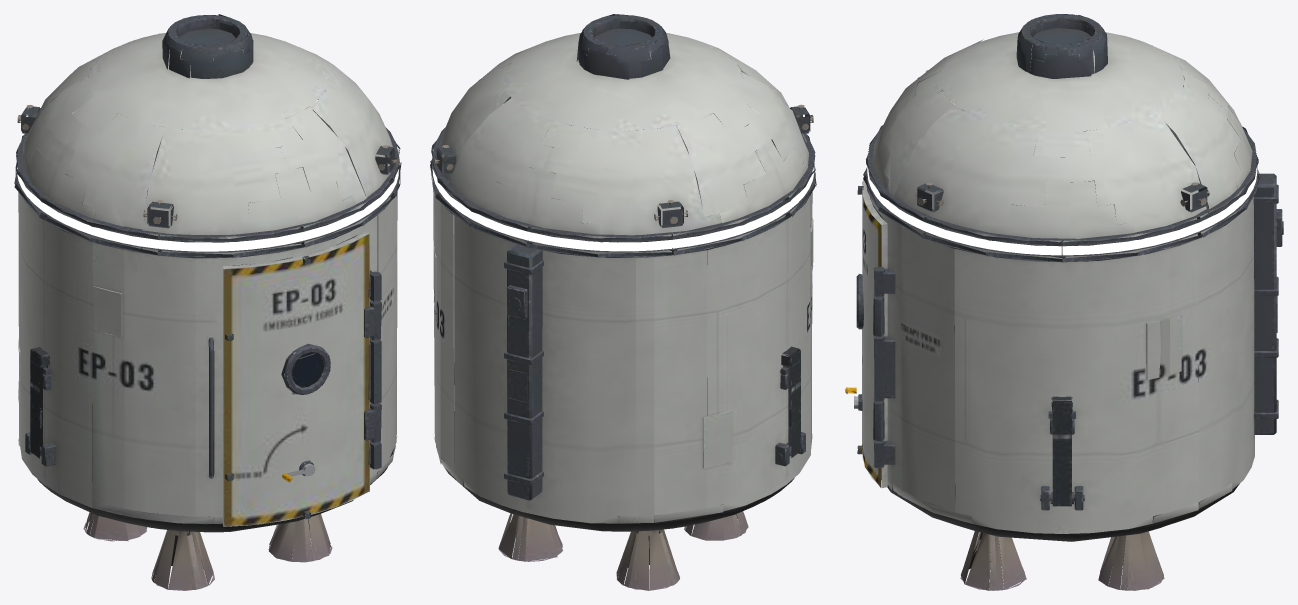
The model's file is pod.glb.
3 renders of one model, left to right at view 1: azimuth 30°, elevation 25°; view 2: azimuth 150°, elevation 25°; view 3: azimuth 270°, elevation 25°, orthographic. The views are drawn at different scales.
Visible parts, largest first — view 1: GEO_S2_Hull_001, GEO_S2_PIV_Hatch_001, GEO_S2_Thruster_003, GEO_S2_Thruster_004, GEO_S2_RingLip_006, GEO_S2_RingLip_005, GEO_S2_RingLip_007, GEO_S2_PIV_Clamp_L_001, GEO_S2_LaunchRingSeg_006, GEO_S2_Thruster_002, GEO_S2_LaunchRingSeg_005, GEO_S2_LaunchRingSeg_007 (+2 smaller); view 2: GEO_S2_Hull_001, GEO_S2_Thruster_002, GEO_S2_Thruster_001, GEO_S2_RingLip_003, GEO_S2_RingLip_004, GEO_S2_RingLip_002, GEO_S2_PIV_Clamp_L_001, GEO_S2_LaunchRingSeg_003, GEO_S2_Thruster_003, GEO_S2_LaunchRingSeg_004, GEO_S2_LaunchRingSeg_002, GEO_S2_RingLip_005 (+2 smaller); view 3: GEO_S2_Hull_001, GEO_S2_PIV_Hatch_001, GEO_S2_Thruster_001, GEO_S2_Thruster_004, GEO_S2_PIV_Clamp_R_001, GEO_S2_RingLip_008, GEO_S2_RingLip_001, GEO_S2_LaunchRingSeg_001, GEO_S2_LaunchRingSeg_008, GEO_S2_RingLip_002, GEO_S2_RingLip_007, GEO_S2_RCS_004 (+1 smaller).
Part boxes in pixels (x1,y1,x2,y2): GEO_S2_Hull_001: [18, 14, 397, 532]; GEO_S2_PIV_Hatch_001: [223, 231, 381, 526]; GEO_S2_Thruster_003: [151, 530, 214, 590]; GEO_S2_Thruster_004: [268, 514, 332, 562]; GEO_S2_RingLip_006: [157, 224, 305, 258]; GEO_S2_RingLip_005: [39, 196, 159, 255]; GEO_S2_RingLip_007: [301, 177, 396, 247]; GEO_S2_PIV_Clamp_L_001: [30, 347, 49, 458]; GEO_S2_LaunchRingSeg_006: [159, 232, 302, 251]; GEO_S2_Thruster_002: [83, 512, 147, 541]; GEO_S2_LaunchRingSeg_005: [42, 203, 158, 248]; GEO_S2_LaunchRingSeg_007: [302, 184, 392, 240]; GEO_S2_Hull_001: [433, 14, 813, 531]; GEO_S2_Thruster_002: [616, 514, 679, 590]; GEO_S2_Thruster_001: [498, 513, 562, 561]; GEO_S2_RingLip_003: [526, 224, 673, 257]; GEO_S2_RingLip_004: [671, 196, 791, 255]; GEO_S2_RingLip_002: [435, 177, 530, 246]; GEO_S2_PIV_Clamp_L_001: [781, 346, 801, 457]; GEO_S2_LaunchRingSeg_003: [528, 232, 672, 251]; GEO_S2_Thruster_003: [684, 511, 748, 540]; GEO_S2_LaunchRingSeg_004: [672, 203, 788, 248]; GEO_S2_LaunchRingSeg_002: [439, 184, 528, 240]; GEO_S2_RingLip_005: [784, 135, 816, 216]; GEO_S2_Hull_001: [870, 14, 1283, 541]; GEO_S2_PIV_Hatch_001: [856, 179, 887, 488]; GEO_S2_Thruster_001: [1098, 531, 1164, 590]; GEO_S2_Thruster_004: [960, 531, 1026, 590]; GEO_S2_PIV_Clamp_R_001: [1050, 396, 1073, 506]; GEO_S2_RingLip_008: [921, 215, 1062, 262]; GEO_S2_RingLip_001: [1062, 215, 1202, 262]; GEO_S2_LaunchRingSeg_001: [1062, 222, 1199, 255]; GEO_S2_LaunchRingSeg_008: [925, 222, 1061, 255]; GEO_S2_RingLip_002: [1196, 158, 1260, 237]; GEO_S2_RingLip_007: [863, 158, 927, 236]; GEO_S2_RCS_004: [915, 182, 943, 212].
Bounding box in the file's own units: 3 × 4.21 × 3.23.
Materials: 3 (3 with a texture image).
